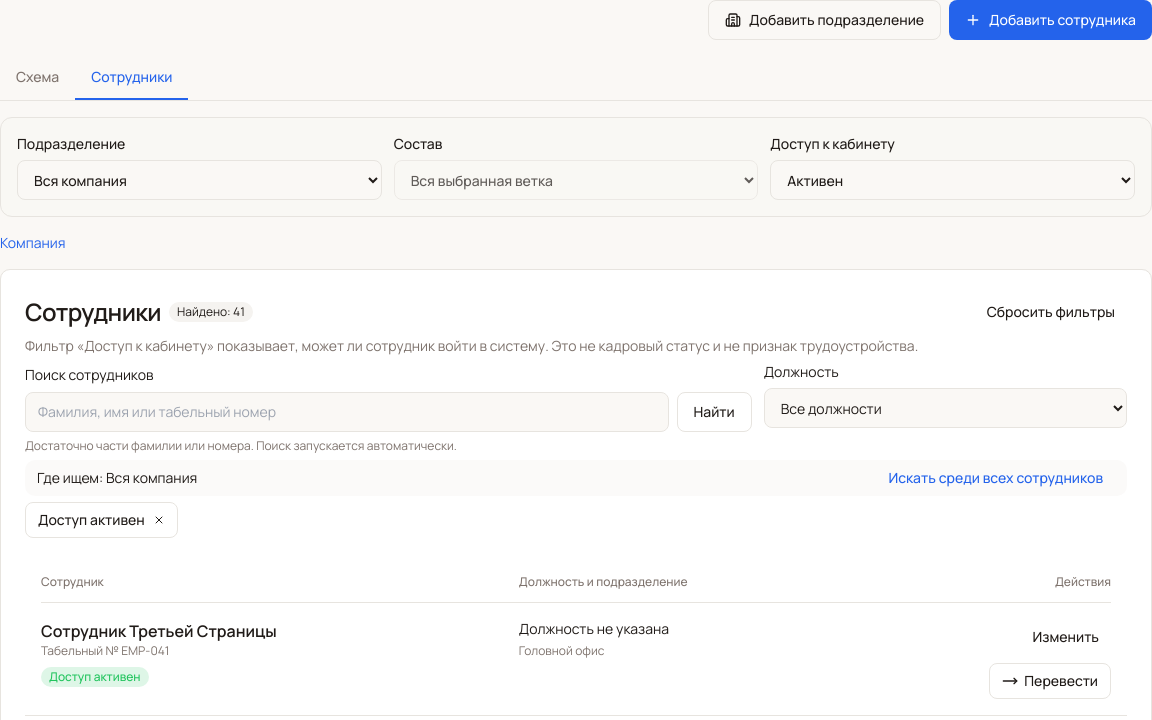
Scenario: StaffWorkspace employee search › submits immediately with the visible Find action without waiting for debounce
The image size is (1152, 720).
Expected: the text "Сотрудник Третьей Страницы" is shown, [41,620,277,642]
Type "танаб" into the search field labelled "Поиск сотрудников" at coordinates (347, 412), box [25,392,668,432]
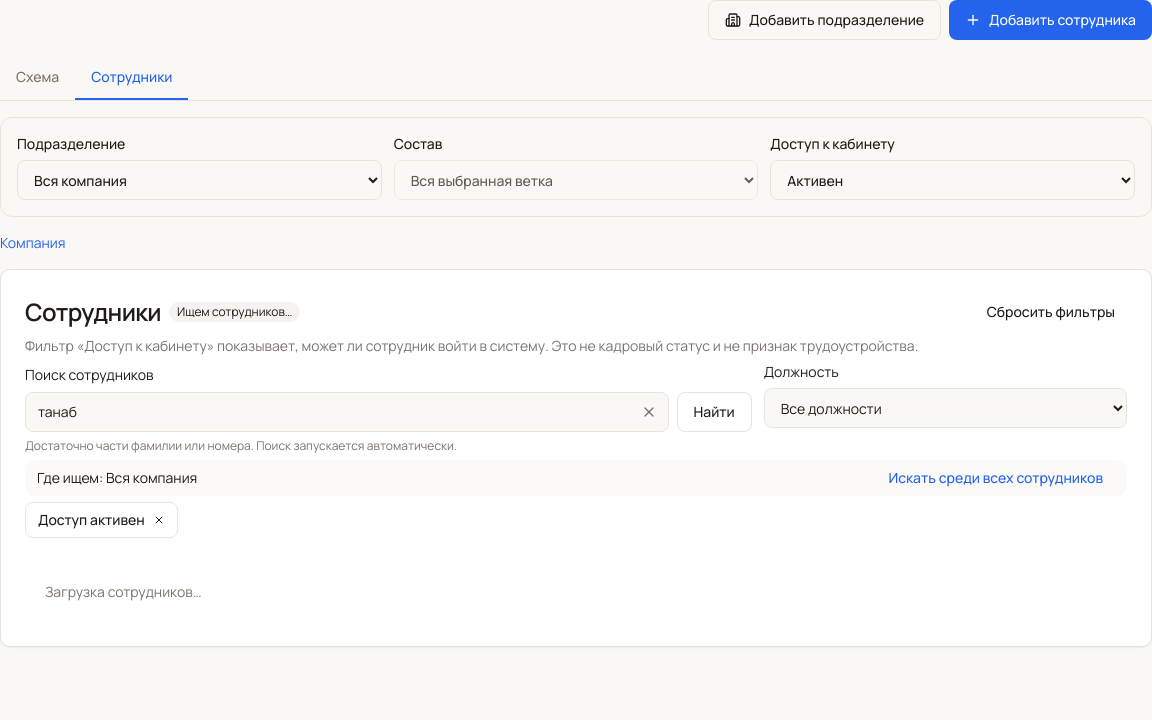
Click the button "Найти" at coordinates (714, 412), box [676,392,752,432]
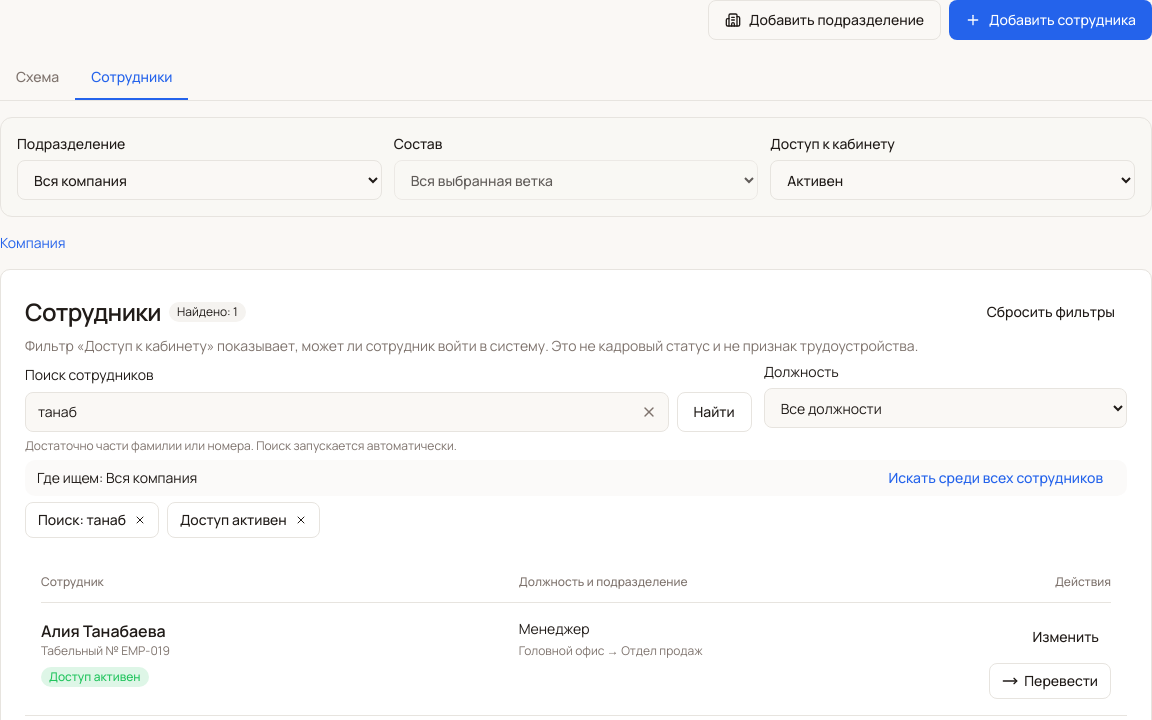
Now the text "Алия Танабаева" is shown, box [41,620,166,642]
